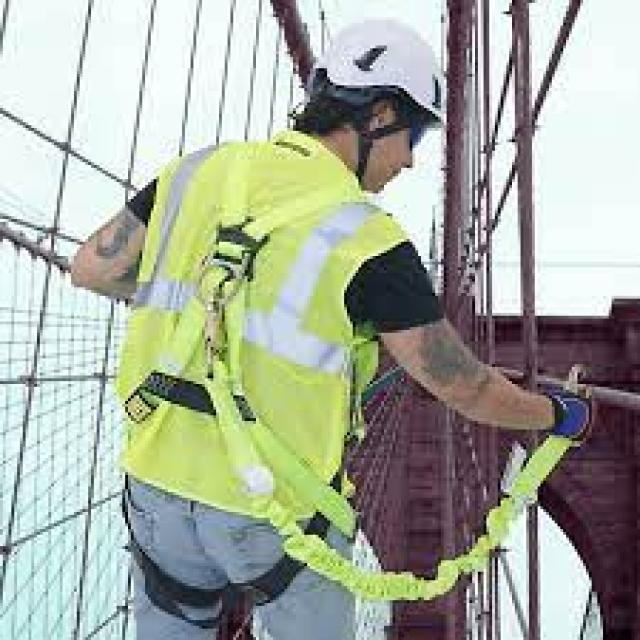harness: (191, 254, 607, 607)
